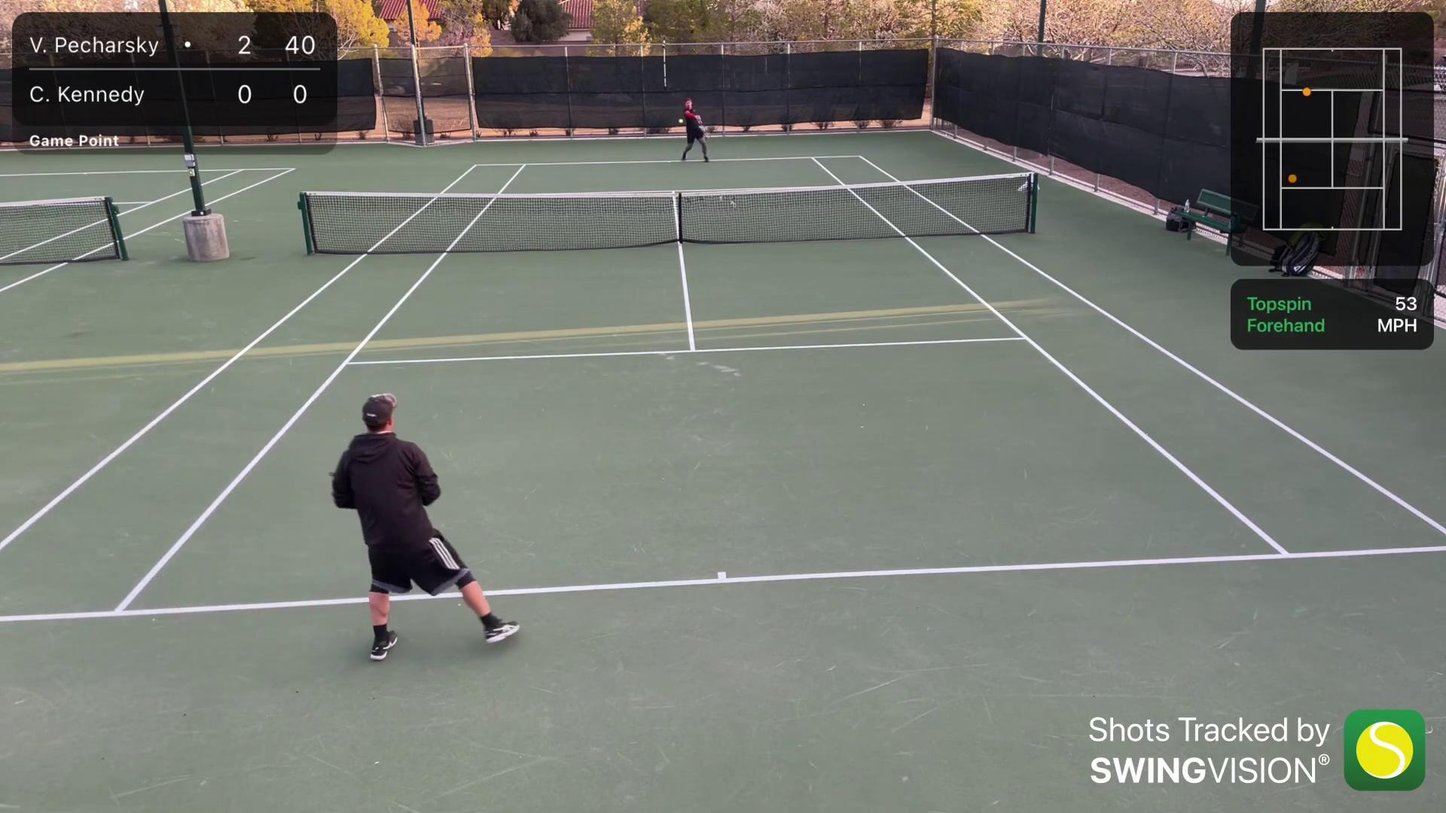ball: (678, 119, 685, 125)
